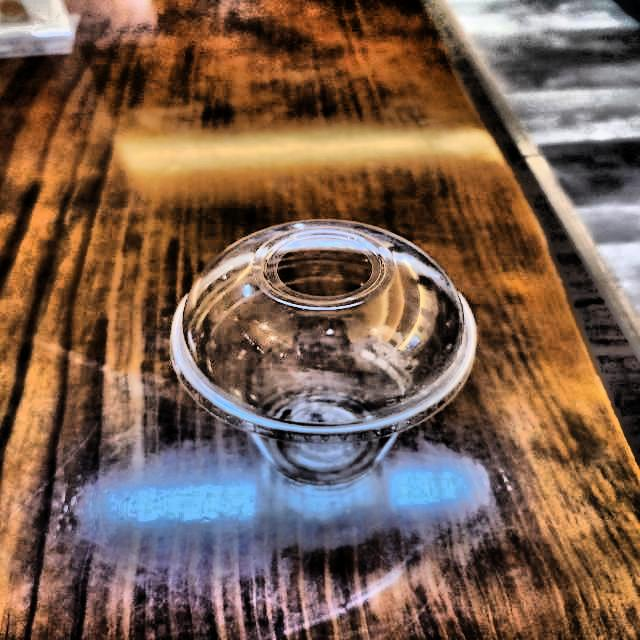plastic cup: (154, 198, 518, 530)
